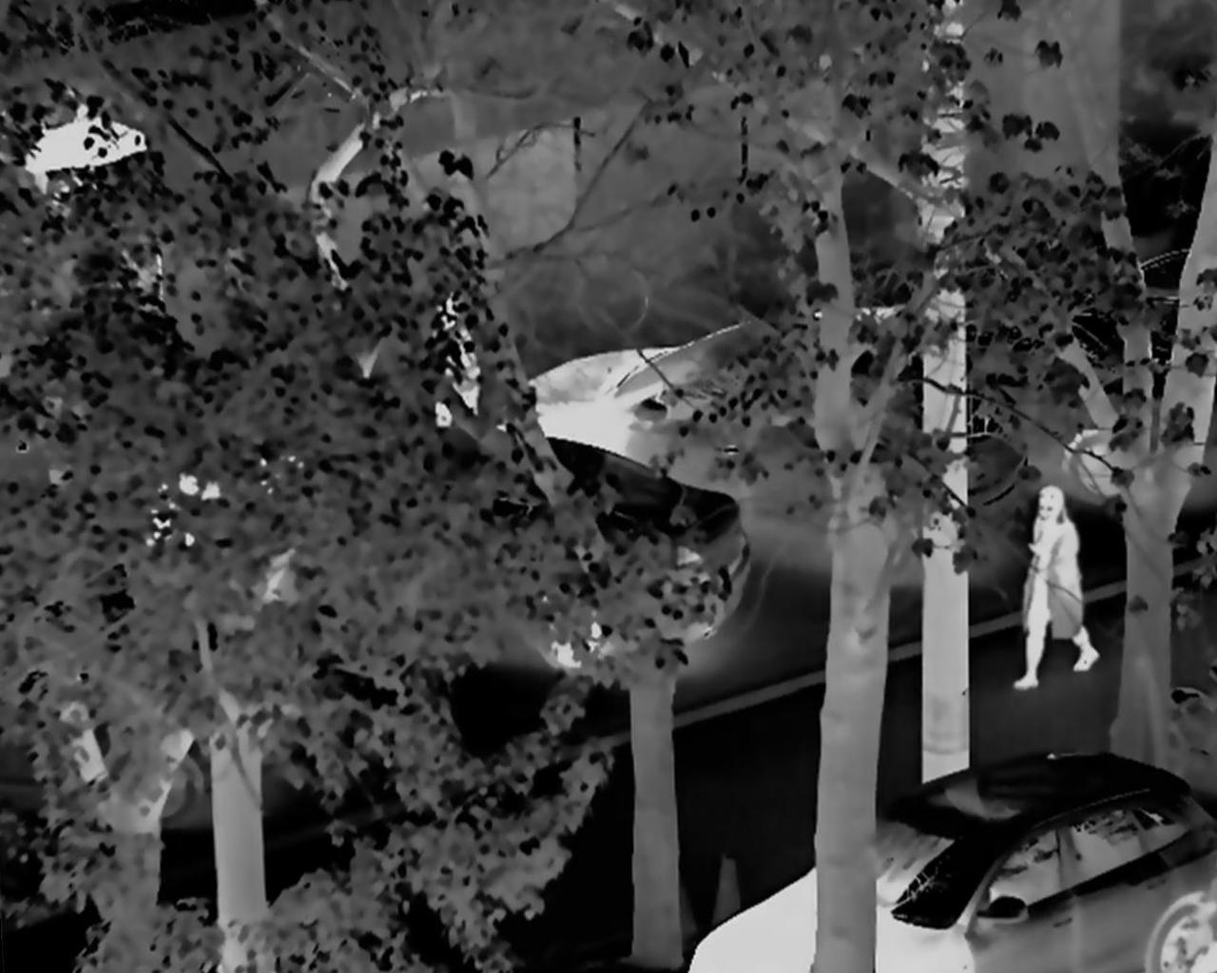person: (1011, 486, 1101, 696), (423, 279, 490, 420)
